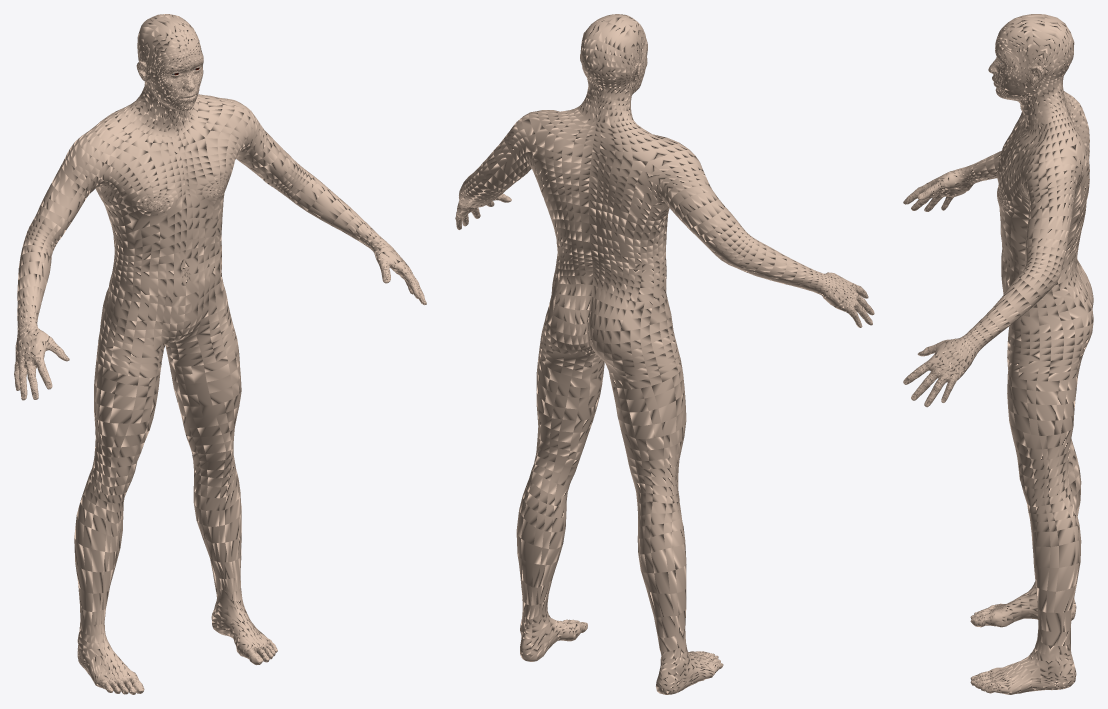
File: avatar.glb
3 views of the same model, side by side, from view 1: azimuth 30°, elevation 25°; view 2: azimuth 150°, elevation 25°; view 3: azimuth 270°, elevation 25° (orthographic).
Visible parts, largest first — view 1: modelMesh; view 2: modelMesh; view 3: modelMesh.
Boxes of the visible parts, left/top/right/bottom form: modelMesh: left=14, top=14, right=426, bottom=694; modelMesh: left=455, top=14, right=874, bottom=694; modelMesh: left=903, top=14, right=1093, bottom=694.
Size of the model in its own units: 1.28 by 1.94 by 0.5246.
2 materials, 1 textured.
